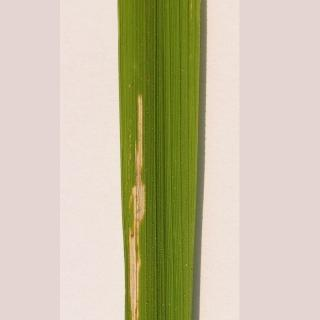Hawar-Daun: (114, 90, 155, 318)
